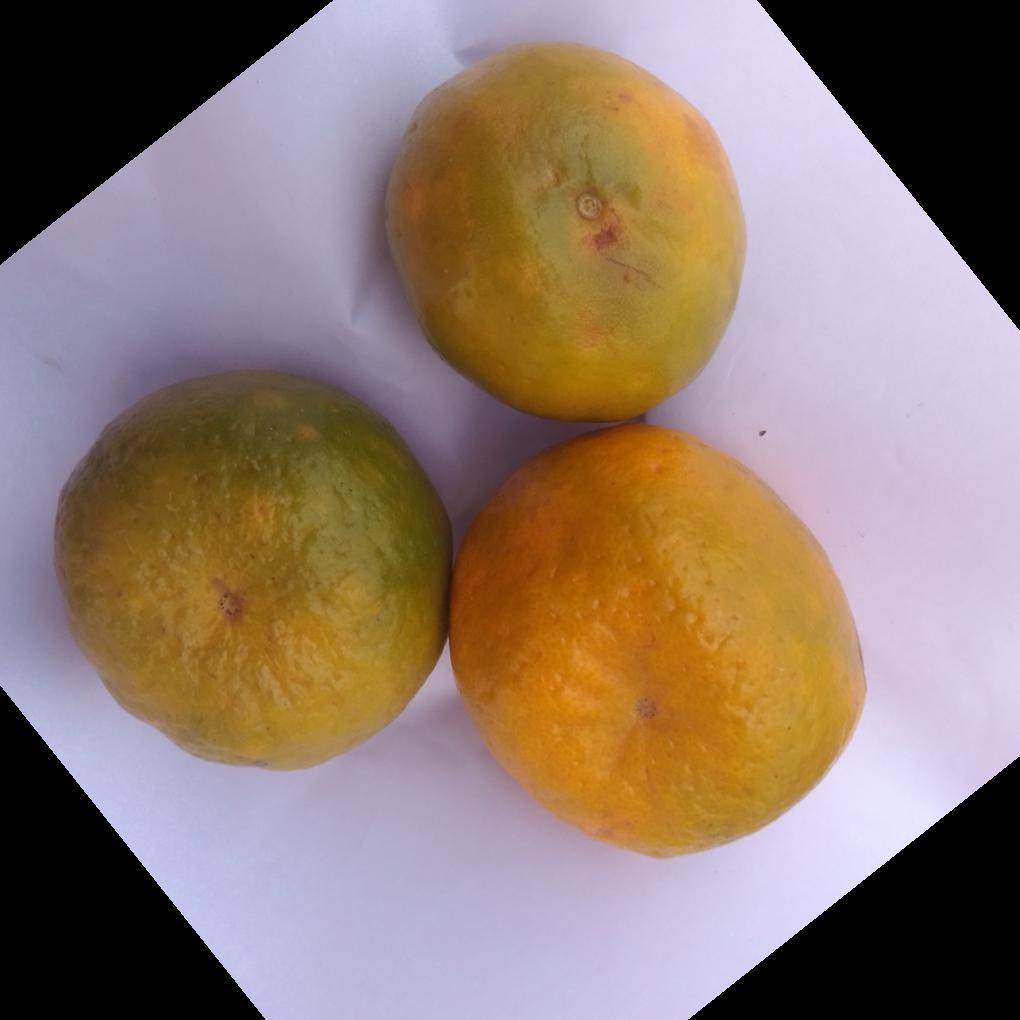FreshGuava: (51, 68, 849, 861)
